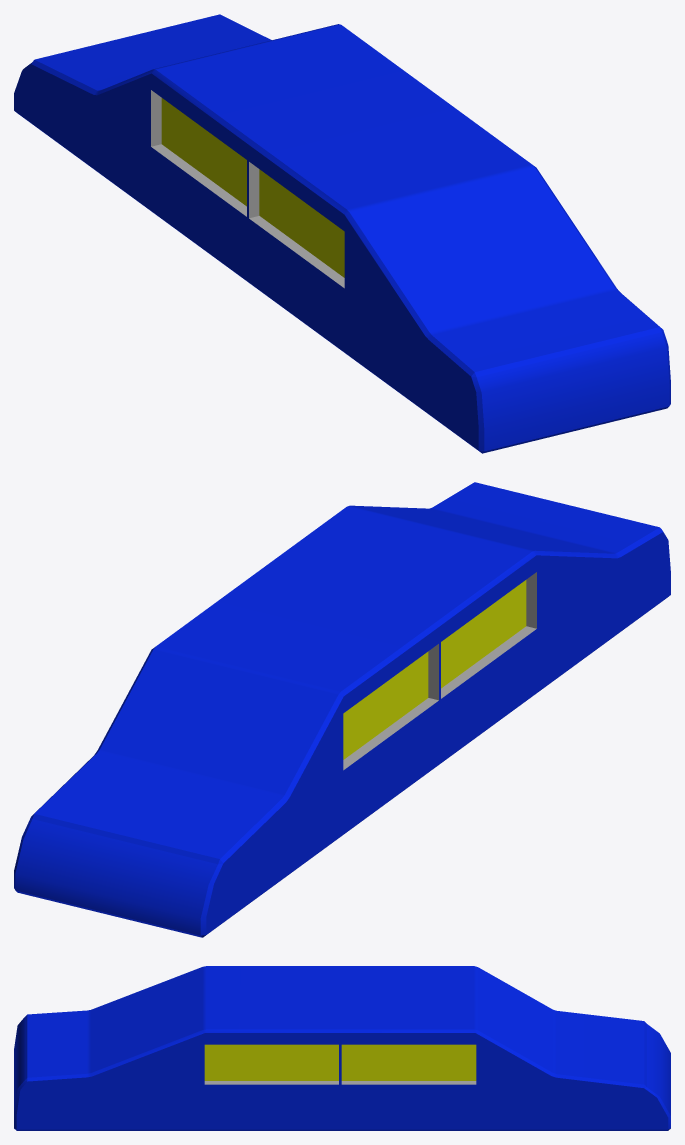
The model's file is Car.fbx.
The picture shows the model from 3 angles, top to bottom: view 1: azimuth 30°, elevation 25°; view 2: azimuth 150°, elevation 25°; view 3: azimuth 270°, elevation 25°; orthographic projection. The views are drawn at different scales.
Parts seen in each view (by area): view 1: Car; view 2: Car; view 3: Car.
Part boxes in pixels (box(x1,y1,x2,y2)): Car: box(14, 14, 670, 453); Car: box(14, 482, 670, 937); Car: box(14, 966, 670, 1130).
Size of the model in its own units: 2.99 by 2.15 by 12.61.
